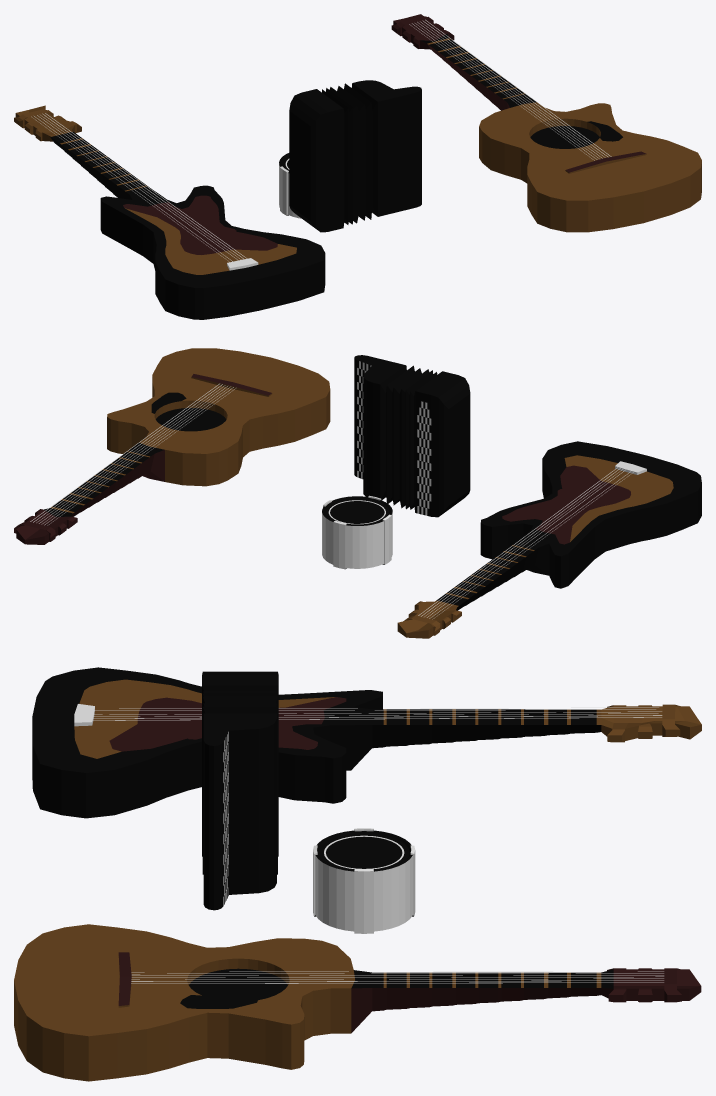
Rendered from MusicTools.fbx.
3 views of the same model, one above another, from view 1: azimuth 30°, elevation 25°; view 2: azimuth 150°, elevation 25°; view 3: azimuth 270°, elevation 25° (orthographic). The views are drawn at different scales.
Parts seen in each view (by area): view 1: AcusticoGuitar, ElectrigGuitar, Accordion, Cylinder; view 2: AcusticoGuitar, ElectrigGuitar, Accordion, Cylinder; view 3: AcusticoGuitar, ElectrigGuitar, Accordion, Cylinder.
Part boxes in pixels (x1=…): AcusticoGuitar: x1=391, y1=14, x2=701, y2=232; ElectrigGuitar: x1=14, y1=105, x2=325, y2=319; Accordion: x1=289, y1=80, x2=421, y2=232; Cylinder: x1=279, y1=153, x2=301, y2=218; AcusticoGuitar: x1=14, y1=348, x2=330, y2=544; ElectrigGuitar: x1=397, y1=441, x2=701, y2=638; Accordion: x1=354, y1=355, x2=470, y2=517; Cylinder: x1=322, y1=495, x2=392, y2=569; AcusticoGuitar: x1=14, y1=924, x2=701, y2=1081; ElectrigGuitar: x1=32, y1=667, x2=701, y2=818; Accordion: x1=202, y1=671, x2=278, y2=910; Cylinder: x1=313, y1=828, x2=415, y2=933.
Bounding box in the file's own units: 264 × 69.44 × 208.
